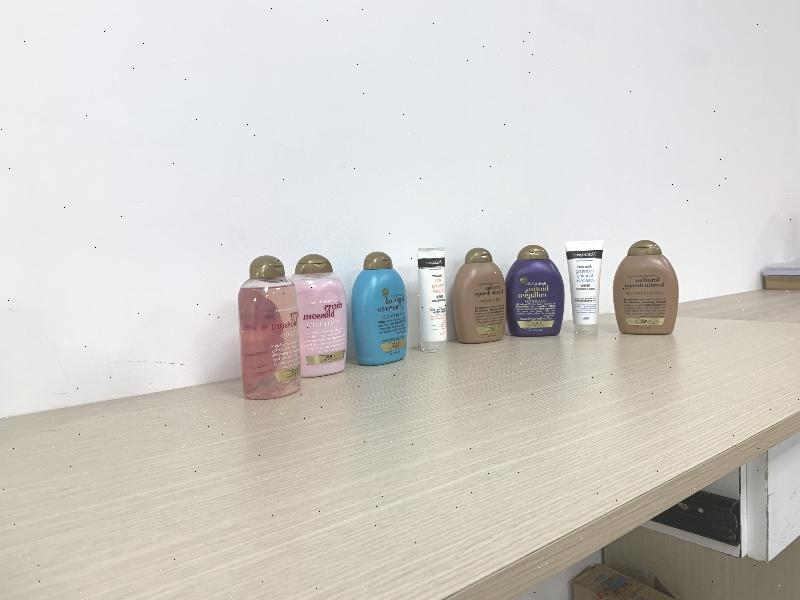AcneFoamingCleanser: (418, 247, 447, 352)
ArganOilOfMorocco_Conditioner: (351, 252, 408, 365)
BiotinCollagen_Shampoo: (506, 245, 564, 336)
BrazilianKeratinTherapy_Shampoo: (453, 248, 506, 344)
BrazilianKerationTherapy_Conditioner: (613, 240, 679, 335)
CherryBlossom_Conditioner: (301, 254, 347, 377)
CherryBlossom_Shampoo: (238, 255, 301, 400)
HydratingFoamingCleanser: (565, 240, 605, 335)
